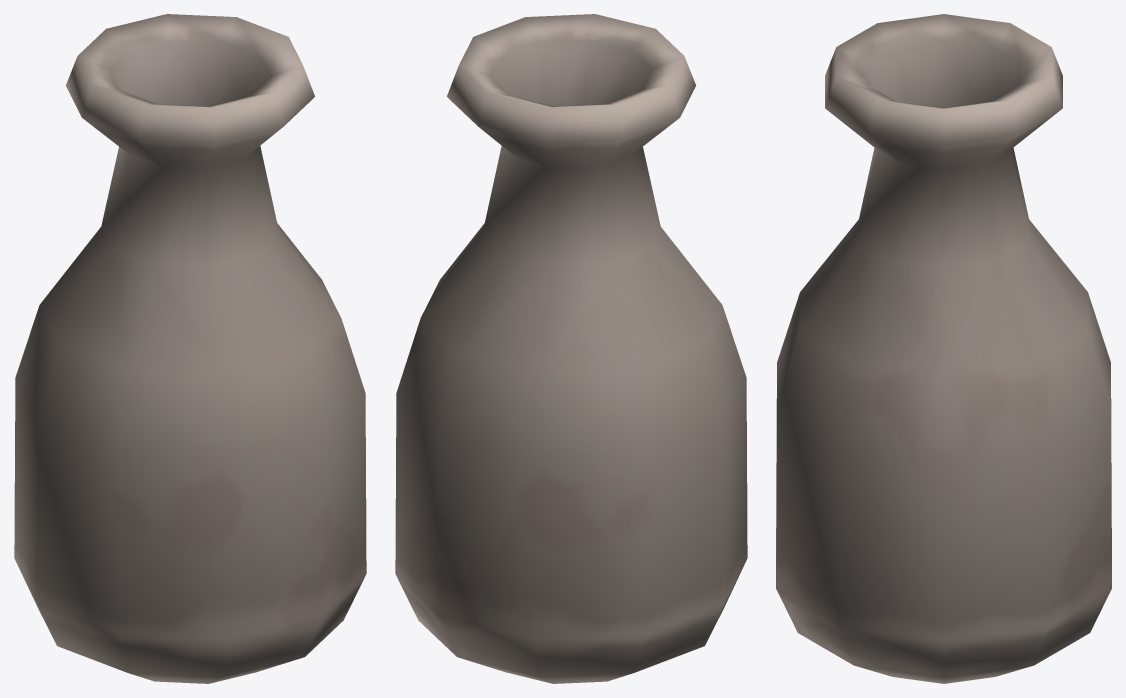
The model's file is O_Vase_D.fbx.
3 views of the same model, side by side, from view 1: azimuth 30°, elevation 25°; view 2: azimuth 150°, elevation 25°; view 3: azimuth 270°, elevation 25° (orthographic).
Visible parts, largest first — view 1: O_Vase_D; view 2: O_Vase_D; view 3: O_Vase_D.
Boxes of the visible parts, x1,y1,x2,y2 form: O_Vase_D: [14, 14, 366, 683]; O_Vase_D: [395, 14, 747, 683]; O_Vase_D: [776, 14, 1111, 683].
Bounding box in the file's own units: 22.19 × 40.58 × 21.1.
